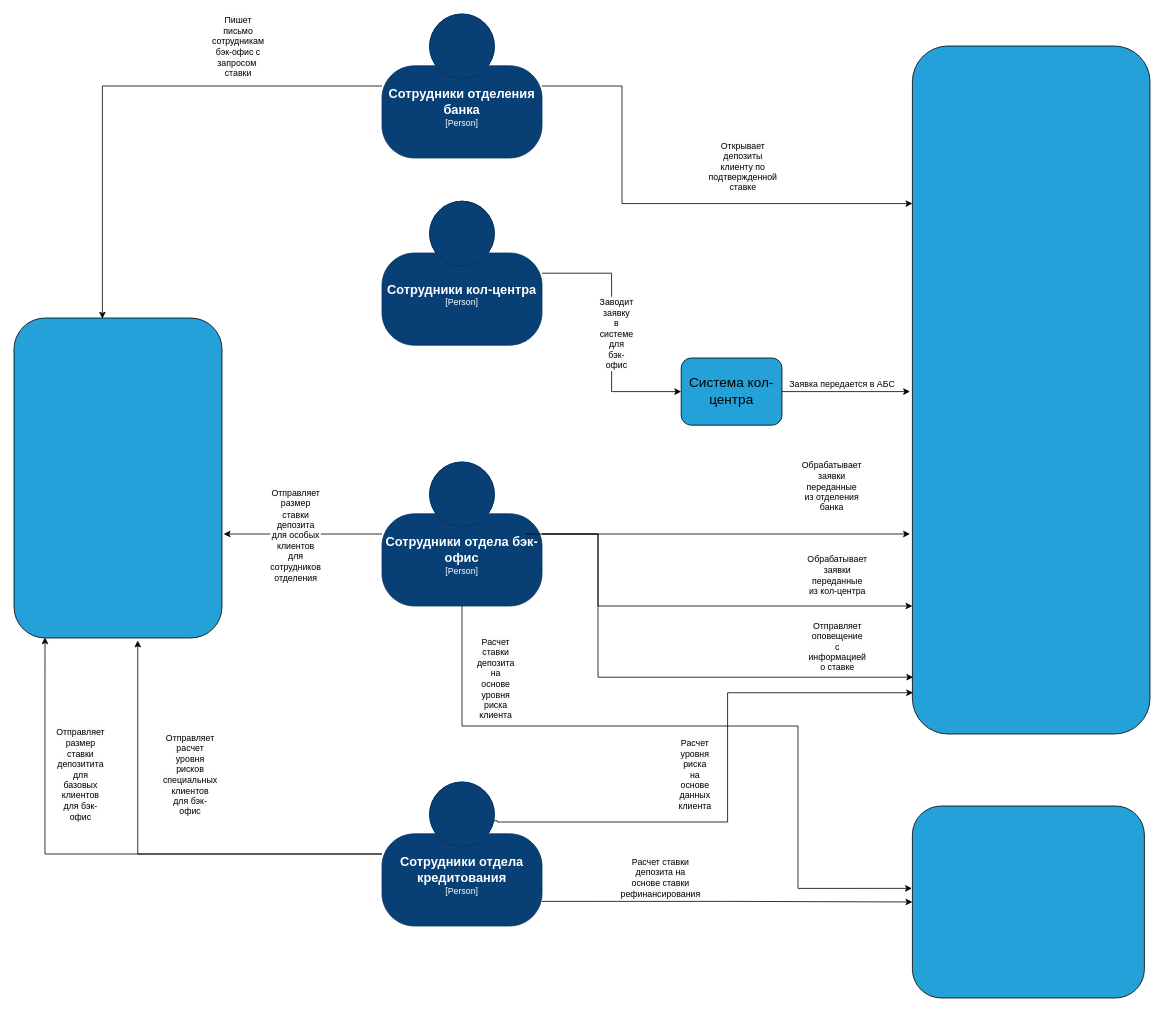
This 1164x1012 diagram has some shape labels left out. The centre of each missing label's shape, as x and y in pixels:
Excel: [1028,901]
АБС: [1031,389]
Электронная почта: [117,477]
